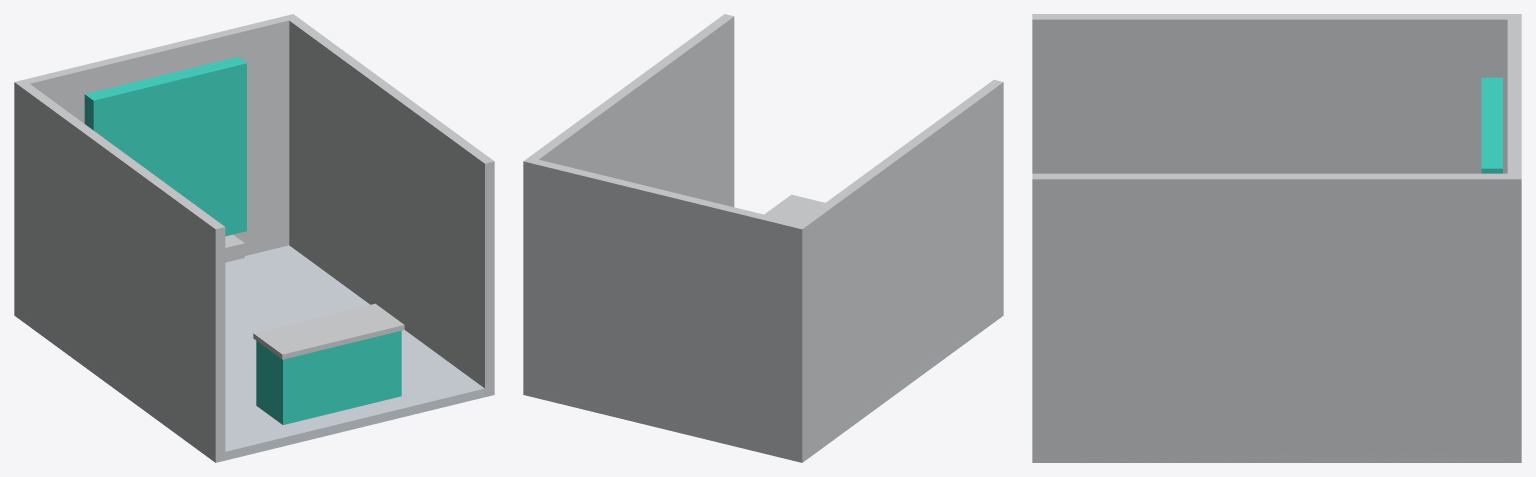
The picture shows the model from 3 angles, left to right: view 1: azimuth 30°, elevation 25°; view 2: azimuth 150°, elevation 25°; view 3: azimuth 270°, elevation 25°; orthographic projection. The views are drawn at different scales.
Parts seen in each view (by area): view 1: Exhibition Booth Concept; view 2: Exhibition Booth Concept; view 3: Exhibition Booth Concept.
Boxes of the visible parts, x1,y1,x2,y2 form: Exhibition Booth Concept: (14, 14, 494, 462); Exhibition Booth Concept: (523, 14, 1003, 462); Exhibition Booth Concept: (1032, 14, 1521, 462).
Bounding box in the file's own units: 4 × 3.2 × 5.
